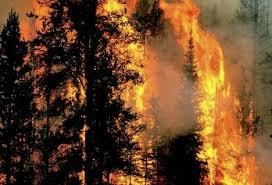fire: (150, 0, 269, 173)
